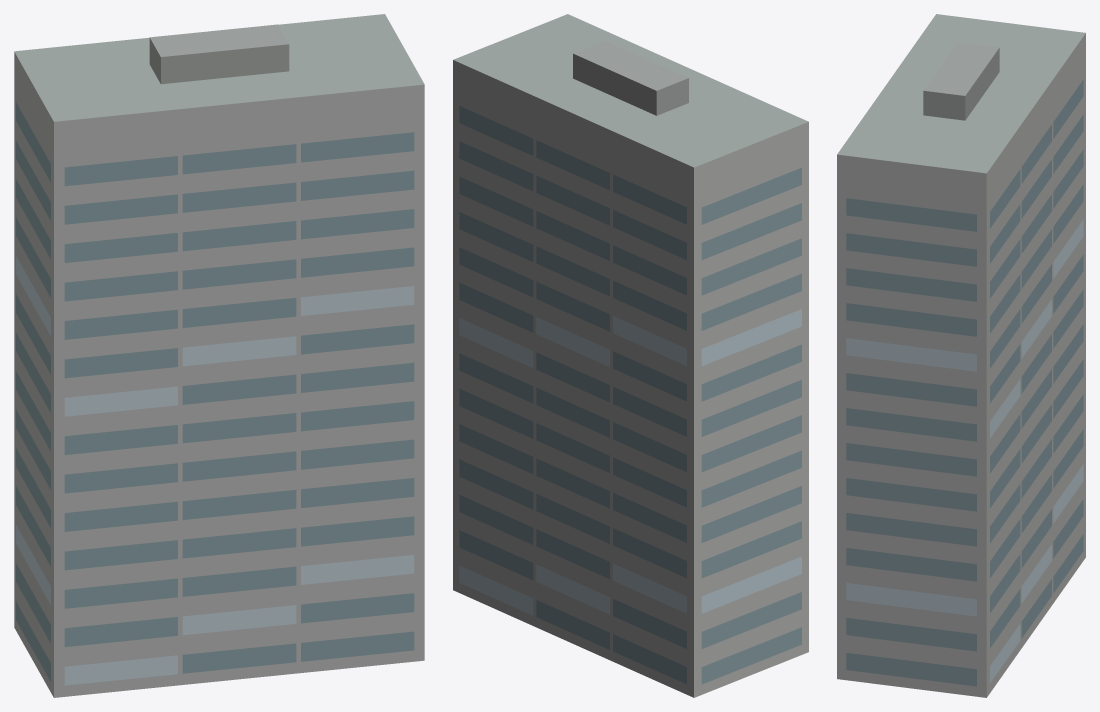
The model's file is apt-a10022974.glb.
3 renders of one model, left to right at view 1: azimuth 30°, elevation 25°; view 2: azimuth 150°, elevation 25°; view 3: azimuth 270°, elevation 25°, orthographic. The views are drawn at different scales.
Visible parts, largest first — view 1: apt-a10022974; view 2: apt-a10022974; view 3: apt-a10022974.
Part boxes in pixels (x1=…): apt-a10022974: x1=14, y1=14, x2=424, y2=697; apt-a10022974: x1=453, y1=14, x2=808, y2=697; apt-a10022974: x1=837, y1=14, x2=1085, y2=697.
Size of the model in its own units: 31.75 by 51 by 20.95.
